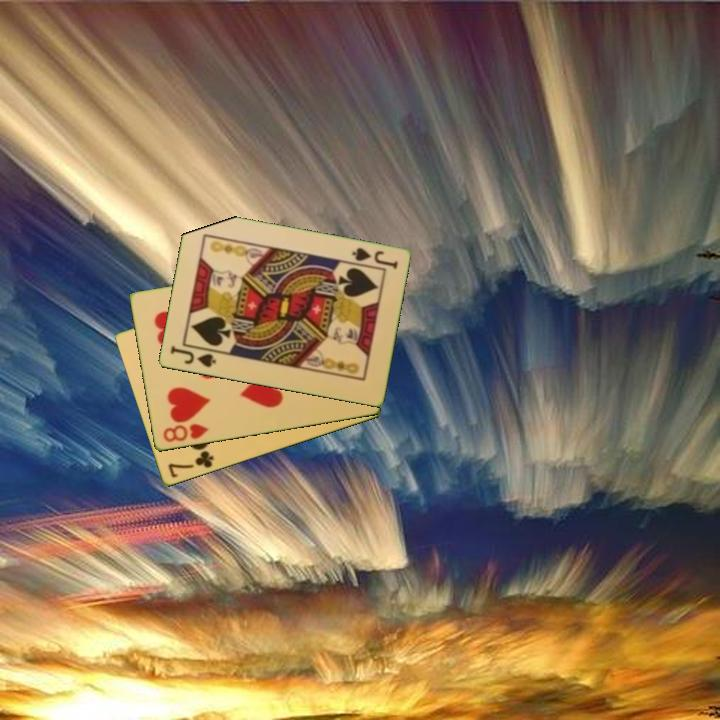7c: (164, 447, 217, 481)
8h: (159, 420, 211, 446)
Js: (348, 244, 400, 273), (166, 342, 219, 370)
